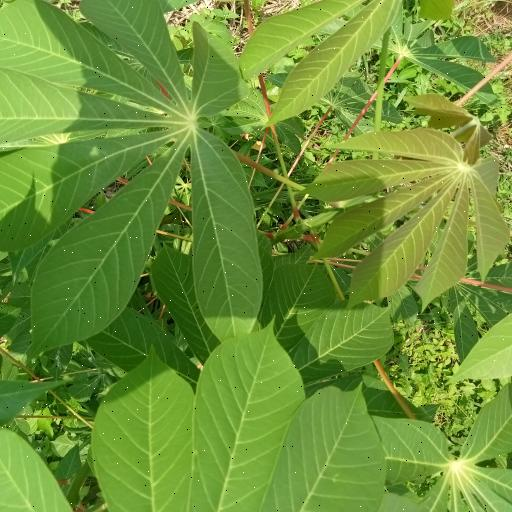Cassava_Healthy: (0, 0, 261, 347), (82, 341, 388, 512), (312, 122, 508, 312)
